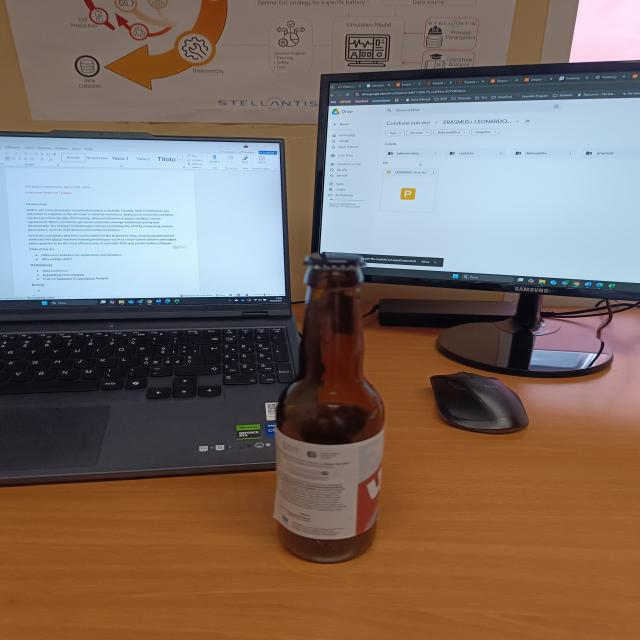Bottle: (275, 251, 387, 563)
Cap: (291, 248, 373, 274)
Label: (273, 430, 384, 539)
